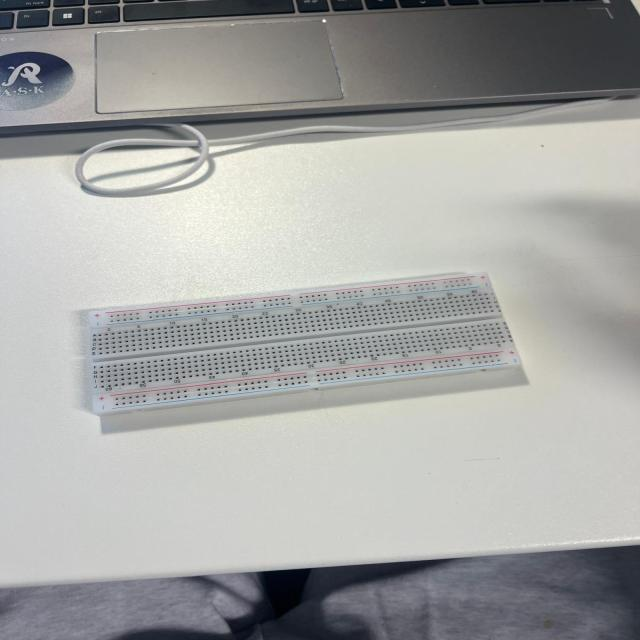BreadBoard: (90, 267, 490, 422)
